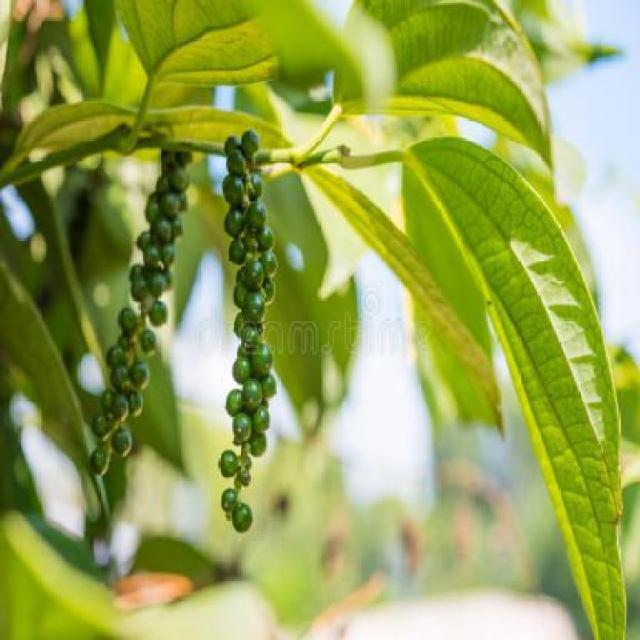UNRIPE: (91, 143, 191, 480), (218, 133, 277, 530)
